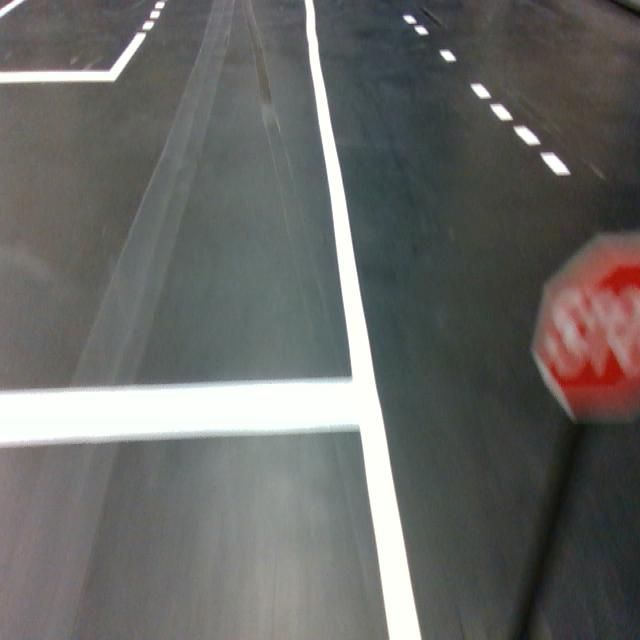stop-sign: (530, 231, 640, 423)
